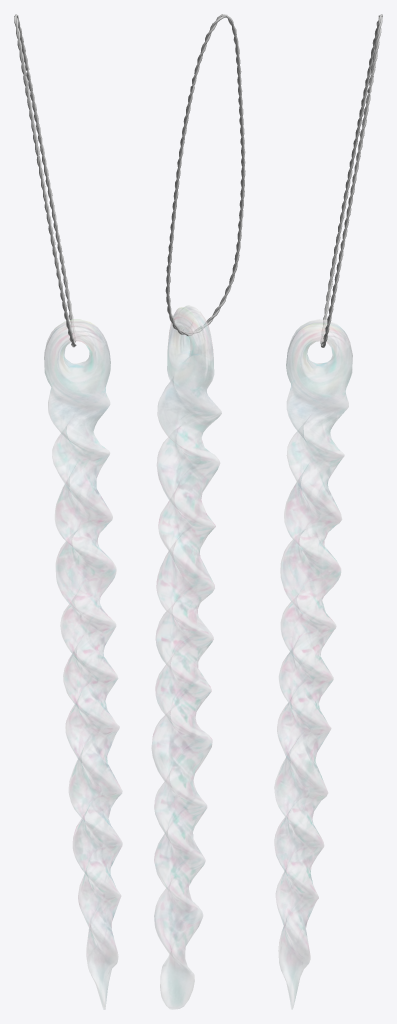
Rendered from Iridescent_Ward.glb.
3 renders of one model, left to right at view 1: azimuth 90°, elevation 25°; view 2: azimuth 210°, elevation 25°; view 3: azimuth 270°, elevation 25°, orthographic. The views are drawn at different scales.
Parts seen in each view (by area): view 1: Mesh1.0, GN Instance; view 2: Mesh1.0, GN Instance; view 3: Mesh1.0, GN Instance.
Part boxes in pixels (x1,y1,x2,y2): Mesh1.0: [44, 319, 122, 1009]; GN Instance: [14, 14, 76, 347]; Mesh1.0: [151, 305, 221, 1009]; GN Instance: [165, 14, 245, 336]; Mesh1.0: [274, 319, 352, 1009]; GN Instance: [320, 14, 382, 347].
Bounding box in the file's own units: 0.014 × 0.1879 × 0.0186.
Materials: 2 (1 with a texture image).
